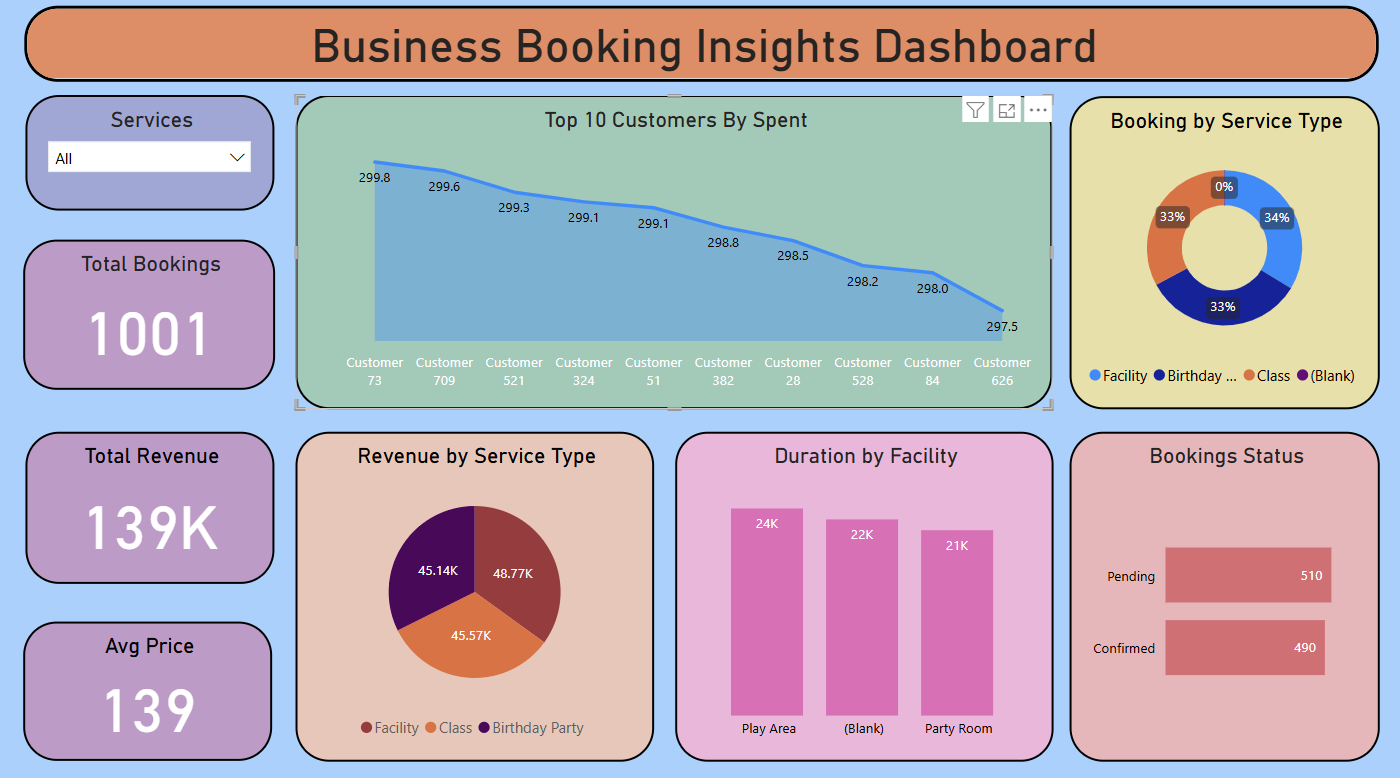

What the dashboard file says about the page in this screenshot:
{"tool":"powerbi","page":{"name":"Page 1","canvas":[1280,720],"ordinal":0},"visuals":[{"type":"card","title":"Total Bookings","fields":{"Values":["CountNonNull(Bookings.Booking ID)"]},"box":[40.9,231.1,225.3,134.2],"z":0},{"type":"card","title":"Total Revenue","fields":{"Values":["Sum(Bookings.Price)"]},"box":[42,402.7,223,136.6],"z":1000},{"type":"textbox","title":"Business Booking Insights Dashboard","box":[41.5,21.3,1213.7,67.8],"z":2000},{"type":"card","title":"Avg Price","fields":{"Values":["Avg(Bookings.Price)"]},"box":[40.9,573.2,223,124.9],"z":3000},{"type":"slicer","title":"Services","fields":{"Values":["Bookings.Service Name"]},"box":[42,101.6,223,103.9],"z":4000},{"type":"stackedAreaChart","title":"Top 10 Customers By Spent","fields":{"Category":["Bookings.Customer Name"],"Y":["Sum(Bookings.Price)"]},"box":[284.8,101.6,678.2,281.3],"z":5000},{"type":"donutChart","title":"Booking by Service Type","fields":{"Category":["Bookings.Service Type"],"Y":["CountNonNull(Bookings.Booking ID)"]},"box":[978.3,102.7,277.8,280.2],"z":6000},{"type":"pieChart","title":"Revenue by Service Type","fields":{"Category":["Bookings.Service Type"],"Y":["Sum(Bookings.Price)"]},"box":[284.8,402.7,321,295.3],"z":7000},{"type":"columnChart","title":"Duration by Facility","fields":{"Category":["Bookings.Facility"],"Y":["Sum(Bookings.Duration (mins))"]},"box":[624.5,402.7,338.5,295.3],"z":8000},{"type":"barChart","title":"Bookings Status","fields":{"Category":["Bookings.Status"],"Y":["CountNonNull(Bookings.Booking ID)"]},"box":[978.3,402.7,277.8,295.3],"z":9000}]}

Visuals, with their boxes in screenshot pixels (x1, y1, x2, y2), scaled from the page's 1280x720 canvas onto the 1400x778 screenshot:
"Total Bookings" card: pyautogui.locateOnScreen(45, 250, 291, 395)
"Total Revenue" card: pyautogui.locateOnScreen(46, 435, 290, 583)
"Business Booking Insights Dashboard" textbox: pyautogui.locateOnScreen(45, 23, 1373, 96)
"Avg Price" card: pyautogui.locateOnScreen(45, 619, 289, 754)
"Services" slicer: pyautogui.locateOnScreen(46, 110, 290, 222)
"Top 10 Customers By Spent" stackedAreaChart: pyautogui.locateOnScreen(312, 110, 1053, 414)
"Booking by Service Type" donutChart: pyautogui.locateOnScreen(1070, 111, 1374, 414)
"Revenue by Service Type" pieChart: pyautogui.locateOnScreen(312, 435, 663, 754)
"Duration by Facility" columnChart: pyautogui.locateOnScreen(683, 435, 1053, 754)
"Bookings Status" barChart: pyautogui.locateOnScreen(1070, 435, 1374, 754)
